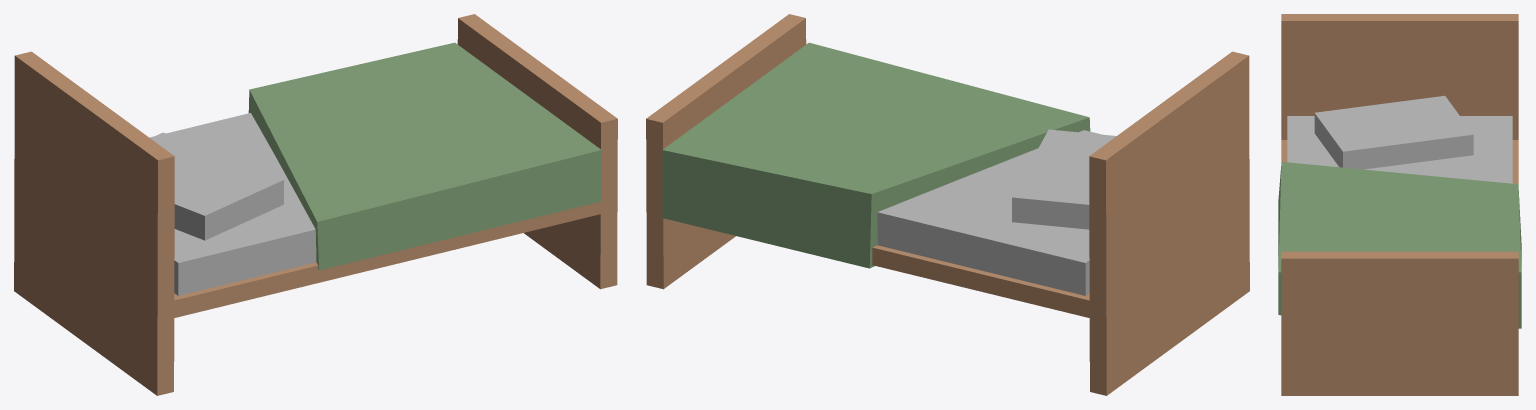
Rendered from bedD.fbx.
3 renders of one model, left to right at view 1: azimuth 30°, elevation 25°; view 2: azimuth 150°, elevation 25°; view 3: azimuth 270°, elevation 25°, orthographic. The views are drawn at different scales.
Parts seen in each view (by area): view 1: Blanke, Bframe2, Bframe2.001, mattress, Pillow, Bframe; view 2: Blanke, Bframe2, mattress, Bframe2.001, Pillow, Bframe; view 3: Bframe2.001, Bframe2, Blanke, Pillow, mattress, Bframe.
Boxes of the visible parts, x1,y1,x2,y2 form: Blanke: (248,42,601,270); Bframe2: (14,51,174,395); Bframe2.001: (457,14,617,289); mattress: (149,113,316,295); Pillow: (150,132,283,240); Bframe: (174,202,603,317); Blanke: (662,42,1090,268); Bframe2: (1089,51,1249,395); mattress: (877,130,1101,295); Bframe2.001: (646,14,806,289); Pillow: (1012,129,1116,229); Bframe: (872,245,1089,317); Bframe2.001: (1281,251,1518,395); Bframe2: (1281,14,1518,139); Blanke: (1278,162,1521,328); Pillow: (1314,95,1473,169); mattress: (1287,116,1512,183); Bframe: (1281,140,1518,184).
Size of the model in its own units: 645 by 317 by 356.
